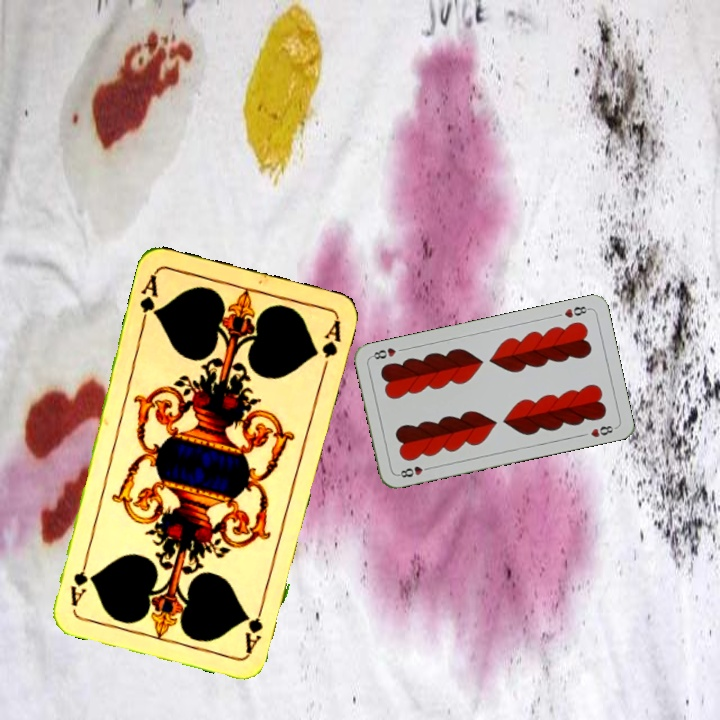GA: (240, 597, 268, 656), (135, 270, 161, 328)
H8: (394, 462, 434, 480), (560, 302, 592, 320)
